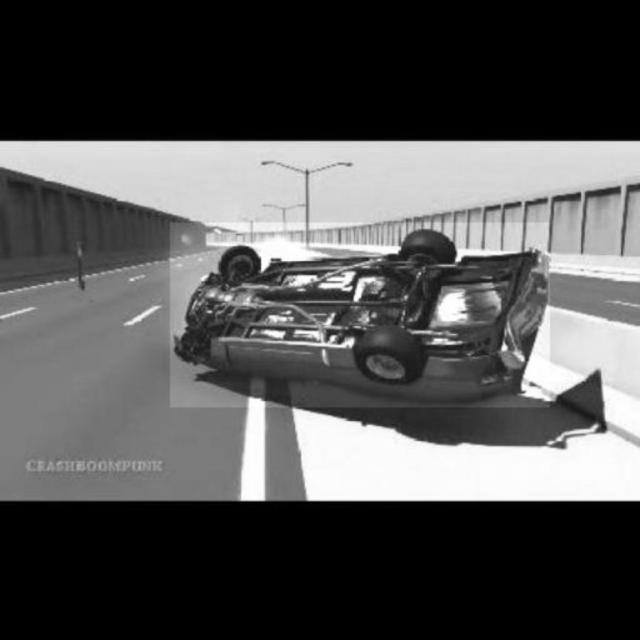vehicle: (170, 223, 551, 408)
